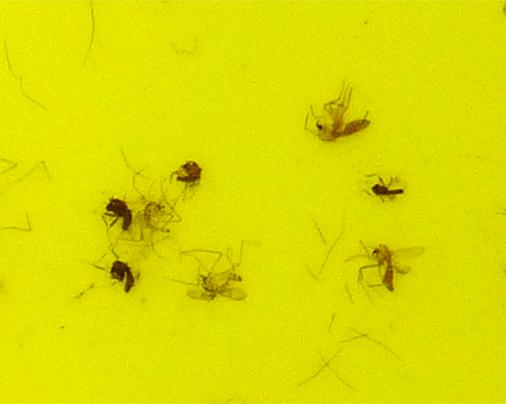Nematocera: (311, 100, 373, 145), (189, 266, 244, 304), (368, 242, 406, 294), (105, 252, 140, 294), (140, 195, 177, 234), (172, 158, 204, 193), (100, 197, 132, 232), (372, 175, 406, 203)
